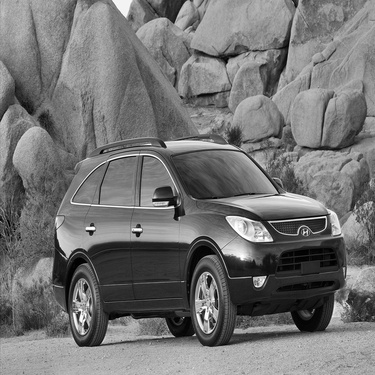car: (42, 134, 353, 348)
